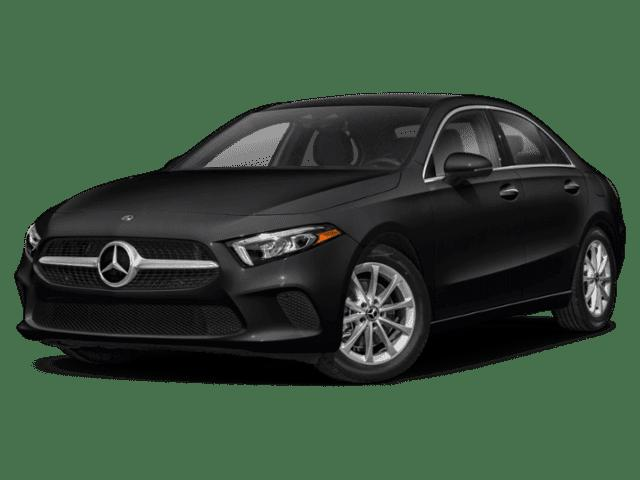benz: (14, 92, 626, 384)
